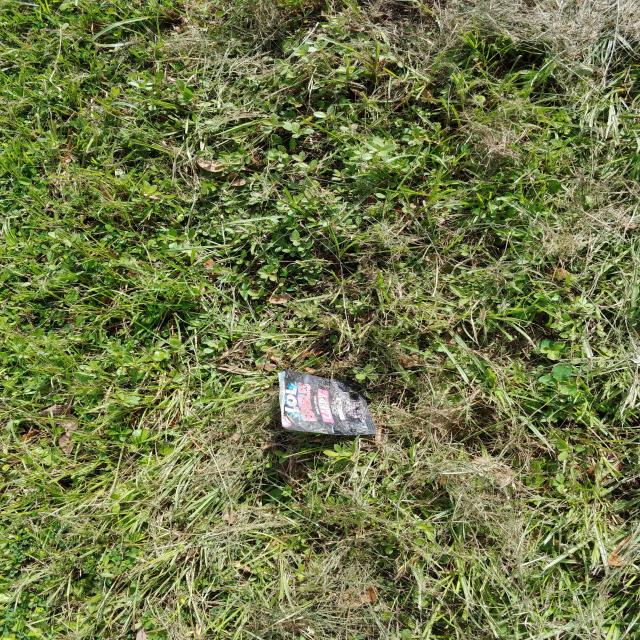litter: (279, 373, 380, 431)
